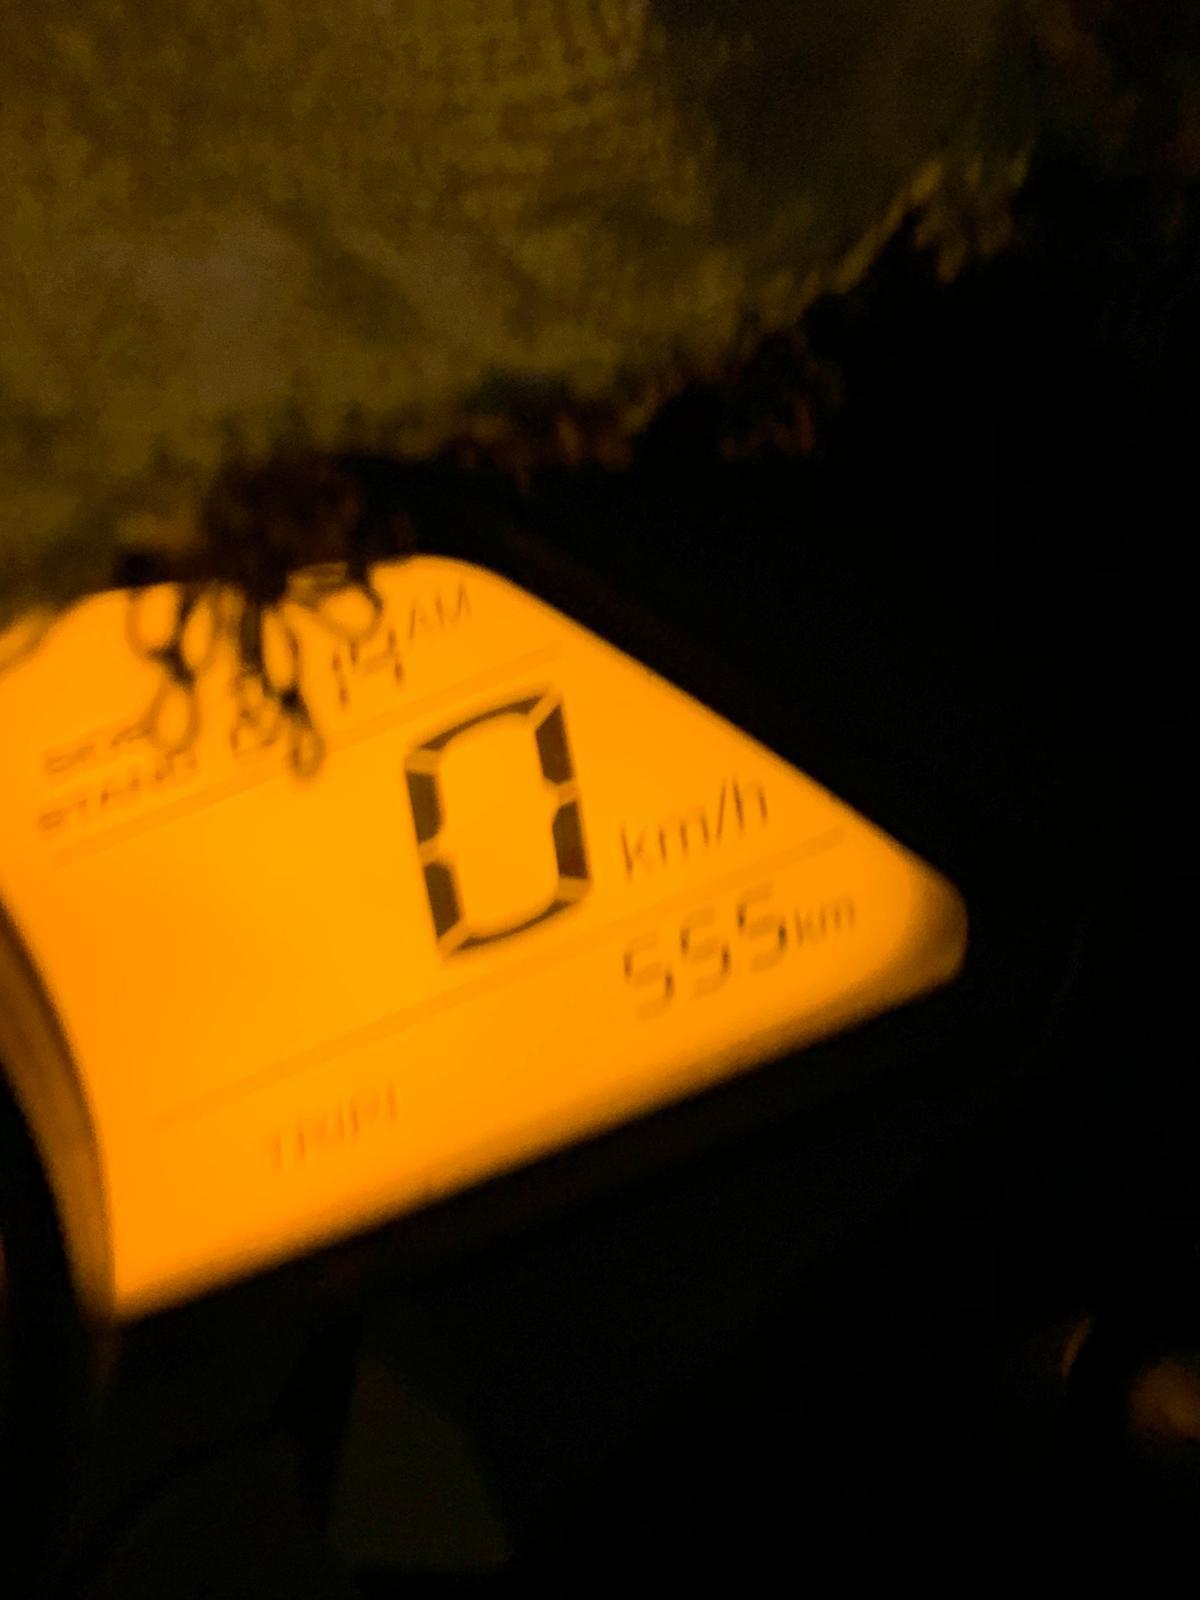0: (405, 689, 600, 952)
5: (616, 931, 674, 1019), (737, 879, 789, 968), (679, 905, 729, 997)
X: (615, 816, 655, 889), (658, 808, 707, 867), (731, 769, 775, 831), (257, 1117, 291, 1186), (708, 774, 735, 855), (347, 1081, 382, 1140), (296, 1104, 332, 1162), (821, 894, 861, 937), (403, 595, 437, 639), (434, 587, 473, 625), (795, 901, 817, 952), (332, 1092, 348, 1148)
odometer: (8, 544, 989, 1325)
